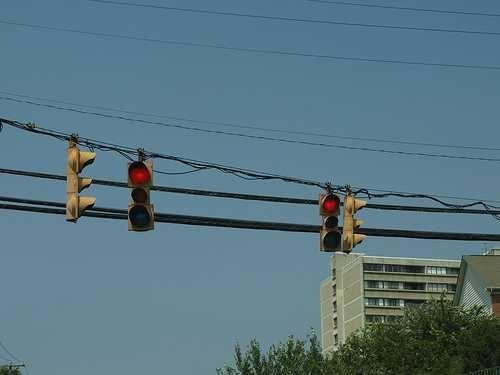red: (127, 160, 154, 232), (320, 191, 342, 255), (126, 160, 155, 185), (321, 192, 340, 215)
